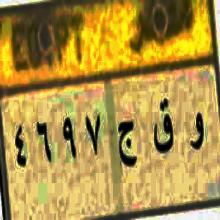4: (12, 118, 28, 175)
6: (34, 113, 53, 172)
7: (84, 105, 102, 164)
9: (59, 107, 77, 165)
jeem: (116, 113, 138, 178)
qaaf: (150, 94, 176, 164)
waw: (190, 110, 204, 157)
